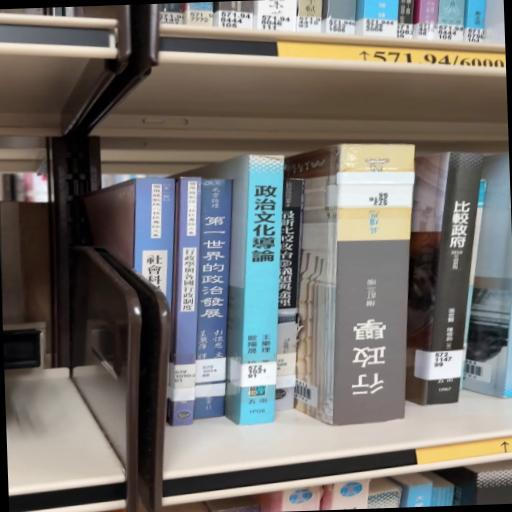reverse: (285, 144, 415, 426)
